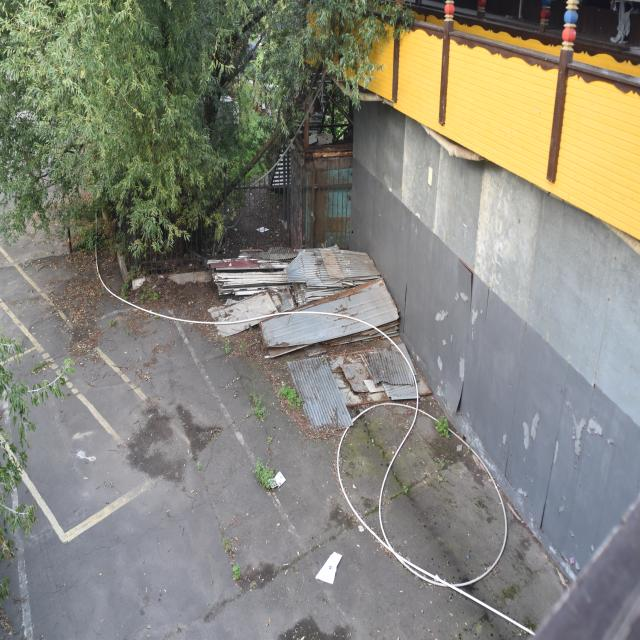entulho: (259, 285, 393, 349), (332, 348, 425, 402), (288, 356, 354, 425), (212, 290, 284, 334), (285, 246, 380, 279), (288, 272, 375, 308), (135, 266, 214, 290), (217, 246, 294, 270), (316, 550, 342, 584), (221, 284, 287, 297), (267, 470, 286, 488)
lixo domiciliar: (257, 227, 269, 233)
